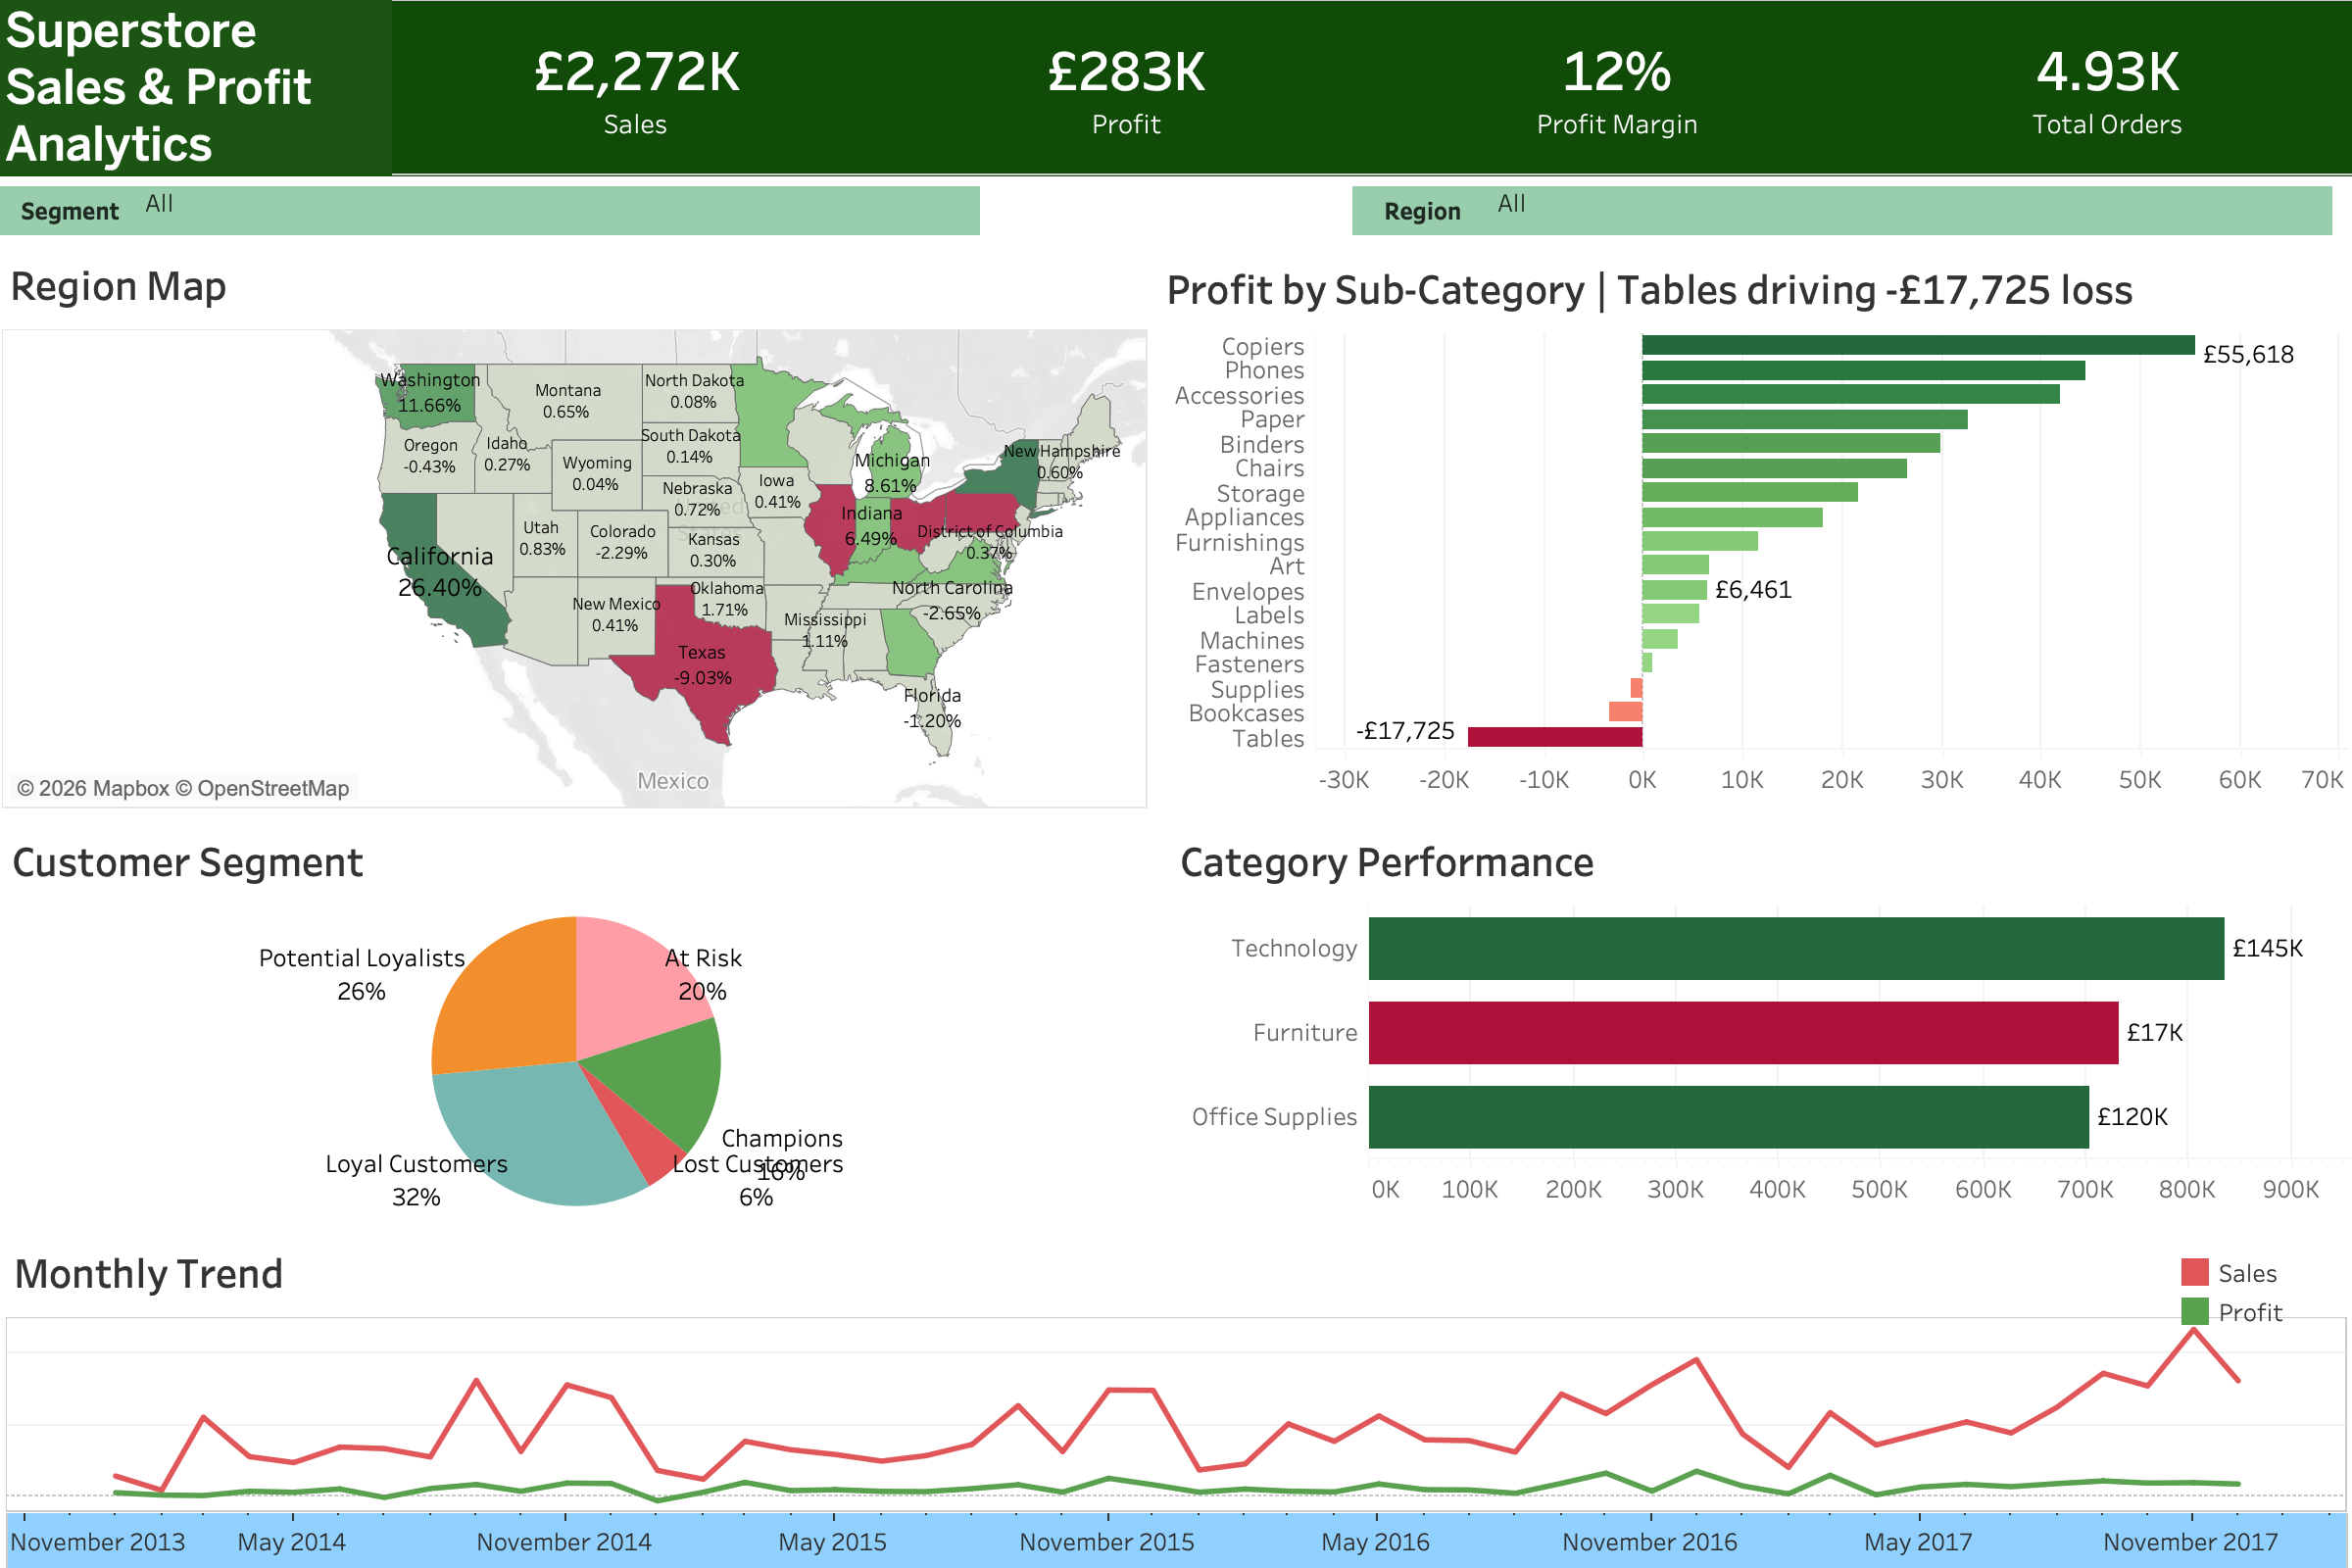

The dashboard page shown, as its layout file describes it:
{"tool":"tableau","page":{"name":"Sale Dashboard","canvas":[1200,800],"ordinal":0},"visuals":[{"type":"text","box":[0,0,200,90]},{"type":"worksheet","title":"Summary","mark":"Automatic","box":[200,0,1002,90]},{"type":"filter","title":"monthly trend","param":"[federated.1t1wbd407ufcqx1a9co3i1cuz0fr].[none:Segment:nk]","box":[0,95,500,25]},{"type":"filter","title":"monthly trend","param":"[federated.1t1wbd407ufcqx1a9co3i1cuz0fr].[none:Region:nk]","box":[690,95,500,25]},{"type":"worksheet","title":"Region Map","mark":"Multipolygon","box":[1,125,585,288]},{"type":"worksheet","title":"Discount Impact","mark":"Bar","rows":["sub_category"],"cols":["Profit"],"box":[591,127,607,285]},{"type":"worksheet","title":"RFM","mark":"Pie","box":[2,419,584,202]},{"type":"worksheet","title":"Category Performance","mark":"Automatic","rows":["Category"],"cols":["Sales"],"box":[598,419,604,202]},{"type":"worksheet","title":"monthly trend","mark":"Automatic","rows":["Sales","Profit"],"cols":["order_date"],"box":[3,629,1195,173]},{"type":"legend","title":"monthly trend","param":"[federated.1t1wbd407ufcqx1a9co3i1cuz0fr].[:Measure Names]","box":[1110,639,78,40]}]}

Visuals, with their boxes in screenshot pixels (x1, y1, x2, y2), scaled from the page's 1200x800 canvas onto the 2352x1568 screenshot:
text: (0, 0, 392, 176)
"Summary" worksheet: (392, 0, 2351, 176)
"monthly trend" filter: (0, 186, 980, 235)
"monthly trend" filter: (1352, 186, 2332, 235)
"Region Map" worksheet (Multipolygon marks): (2, 245, 1149, 809)
"Discount Impact" worksheet (Bar marks): (1158, 249, 2348, 808)
"RFM" worksheet (Pie marks): (4, 821, 1149, 1217)
"Category Performance" worksheet: (1172, 821, 2351, 1217)
"monthly trend" worksheet: (6, 1233, 2348, 1567)
"monthly trend" legend: (2176, 1252, 2328, 1331)
